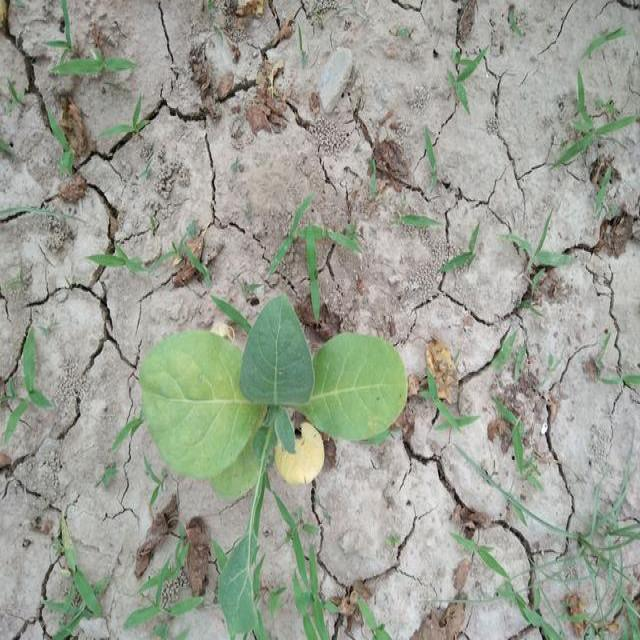crop: (128, 283, 416, 496)
